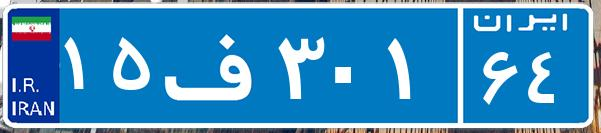0: (330, 28, 385, 110)
1: (385, 28, 445, 110), (57, 26, 110, 107)
3: (273, 28, 330, 110)
4: (525, 38, 570, 115)
5: (110, 28, 158, 105)
6: (475, 38, 525, 113)
ف: (158, 15, 273, 115)
